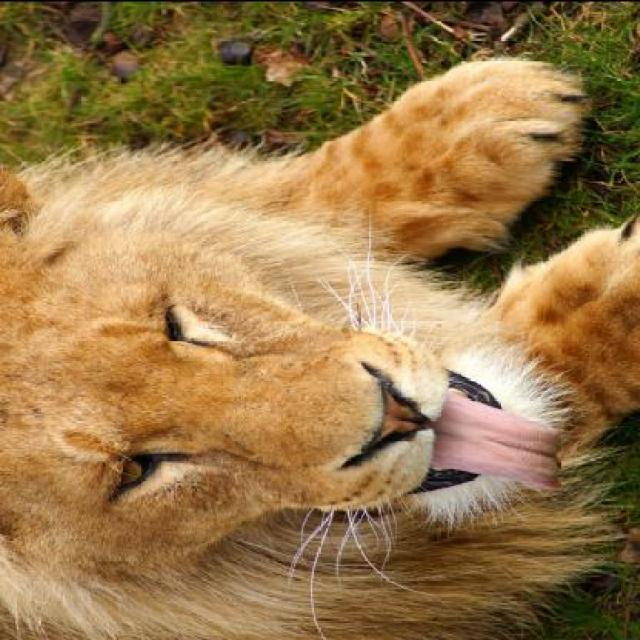Lion: (4, 16, 638, 624)
